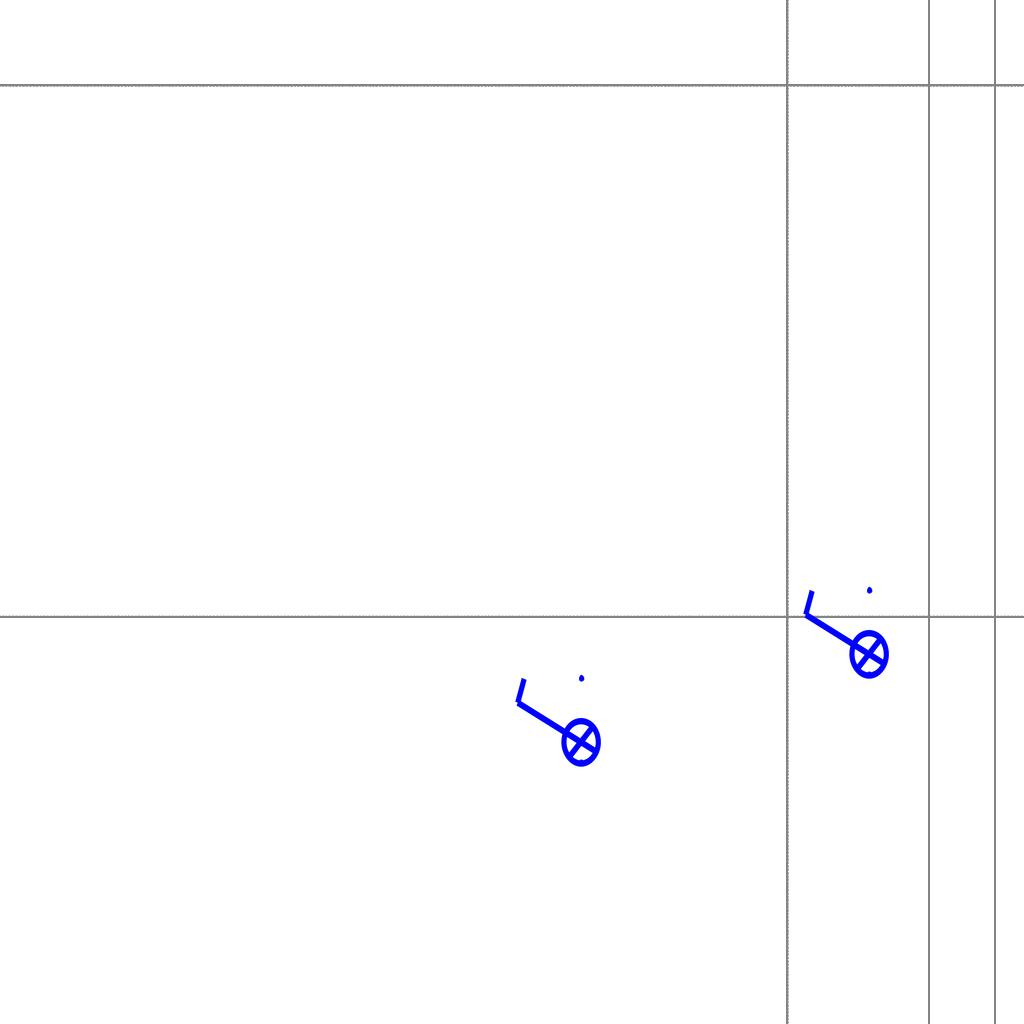Ausschalter_beleuchtet: (795, 581, 891, 693), (507, 669, 603, 781)
